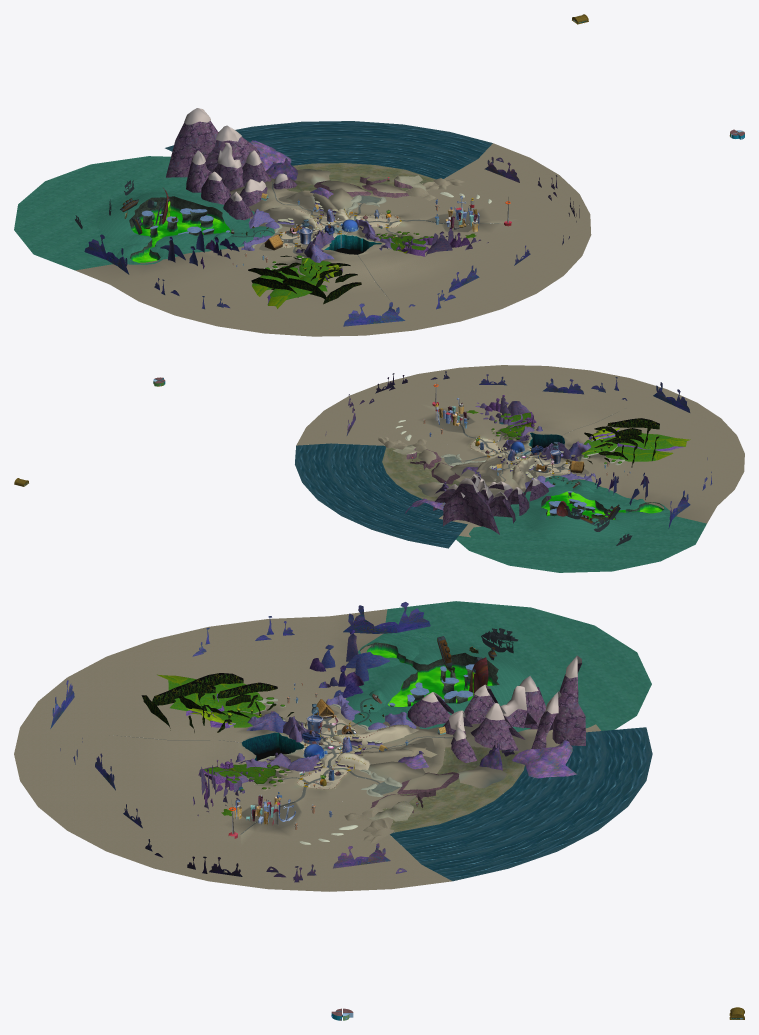
The model's file is town.glb.
3 renders of one model, top to bottom at view 1: azimuth 30°, elevation 25°; view 2: azimuth 150°, elevation 25°; view 3: azimuth 270°, elevation 25°, orthographic. The views are drawn at different scales.
Visible parts, largest first — view 1: ground_day3_mat_ground_day3_0, dutch_ground_mat_dutch_ground_0, lagoon_water_mat_lagoon_water_0, rock_sand_mtn_purple_mat_rock_sand_mtn_purple_0, light_purple_rock_mat_rock_purple_0, purple_rock1_mat_rock_purple_ver10_0, sand_jfflds_wet_mat_sand_jfflds_wet_0, kf_lodtextures_fringes_mat_kf_lodtextures_fringes_0, sand_mountain_top_mat_sm_peak_0, main_sand_mat_ground_day_0, mesh_grass_mat_grass_0, mesh_gy_lodtextures_mat_gy_lodtextures_0 (+7 smaller); view 2: ground_day3_mat_ground_day3_0, dutch_ground_mat_dutch_ground_0, lagoon_water_mat_lagoon_water_0, rock_sand_mtn_purple_mat_rock_sand_mtn_purple_0, light_purple_rock_mat_rock_purple_0, purple_rock1_mat_rock_purple_ver10_0, sand_jfflds_wet_mat_sand_jfflds_wet_0, mesh_grass_mat_grass_0, kf_lodtextures_fringes_mat_kf_lodtextures_fringes_0, main_sand_mat_ground_day_0, mesh_gy_lodtextures_mat_gy_lodtextures_0, gy_lava_green_mat_gy_lava_green_0 (+8 smaller); view 3: ground_day3_mat_ground_day3_0, dutch_ground_mat_dutch_ground_0, lagoon_water_mat_lagoon_water_0, rock_sand_mtn_purple_mat_rock_sand_mtn_purple_0, light_purple_rock_mat_rock_purple_0, sand_jfflds_wet_mat_sand_jfflds_wet_0, purple_rock1_mat_rock_purple_ver10_0, kf_lodtextures_fringes_mat_kf_lodtextures_fringes_0, main_sand_mat_ground_day_0, sand_mountain_top_mat_sm_peak_0, mesh_gy_lodtextures_mat_gy_lodtextures_0, mesh_grass_mat_grass_0 (+8 smaller).
Part boxes in pixels (x1,y1,x2,y2): ground_day3_mat_ground_day3_0: [75, 143, 591, 336]; dutch_ground_mat_dutch_ground_0: [14, 156, 274, 270]; lagoon_water_mat_lagoon_water_0: [165, 121, 492, 179]; rock_sand_mtn_purple_mat_rock_sand_mtn_purple_0: [166, 120, 297, 220]; light_purple_rock_mat_rock_purple_0: [84, 140, 579, 326]; purple_rock1_mat_rock_purple_ver10_0: [160, 211, 476, 265]; sand_jfflds_wet_mat_sand_jfflds_wet_0: [268, 163, 435, 237]; kf_lodtextures_fringes_mat_kf_lodtextures_fringes_0: [248, 255, 361, 304]; sand_mountain_top_mat_sm_peak_0: [184, 108, 287, 201]; main_sand_mat_ground_day_0: [263, 206, 400, 247]; mesh_grass_mat_grass_0: [252, 255, 331, 299]; mesh_gy_lodtextures_mat_gy_lodtextures_0: [75, 180, 254, 234]; ground_day3_mat_ground_day3_0: [296, 365, 744, 537]; dutch_ground_mat_dutch_ground_0: [456, 475, 706, 572]; lagoon_water_mat_lagoon_water_0: [295, 422, 503, 548]; rock_sand_mtn_purple_mat_rock_sand_mtn_purple_0: [433, 477, 551, 534]; light_purple_rock_mat_rock_purple_0: [325, 371, 712, 528]; purple_rock1_mat_rock_purple_ver10_0: [480, 397, 647, 505]; sand_jfflds_wet_mat_sand_jfflds_wet_0: [382, 433, 506, 501]; mesh_grass_mat_grass_0: [581, 433, 674, 463]; kf_lodtextures_fringes_mat_kf_lodtextures_fringes_0: [584, 418, 659, 467]; main_sand_mat_ground_day_0: [470, 438, 570, 488]; mesh_gy_lodtextures_mat_gy_lodtextures_0: [556, 479, 632, 545]; gy_lava_green_mat_gy_lava_green_0: [542, 486, 662, 519]; ground_day3_mat_ground_day3_0: [14, 609, 600, 891]; dutch_ground_mat_dutch_ground_0: [346, 601, 651, 731]; lagoon_water_mat_lagoon_water_0: [238, 727, 652, 881]; rock_sand_mtn_purple_mat_rock_sand_mtn_purple_0: [407, 663, 585, 762]; light_purple_rock_mat_rock_purple_0: [50, 602, 576, 882]; sand_jfflds_wet_mat_sand_jfflds_wet_0: [267, 746, 524, 832]; purple_rock1_mat_rock_purple_ver10_0: [199, 633, 389, 809]; kf_lodtextures_fringes_mat_kf_lodtextures_fringes_0: [141, 673, 293, 732]; main_sand_mat_ground_day_0: [298, 717, 418, 789]; sand_mountain_top_mat_sm_peak_0: [422, 655, 581, 740]; mesh_gy_lodtextures_mat_gy_lodtextures_0: [369, 628, 518, 713]; mesh_grass_mat_grass_0: [168, 678, 284, 727].
Bounding box in the file's own units: 970 × 108 × 735.
Materials: 174 (171 with a texture image).
